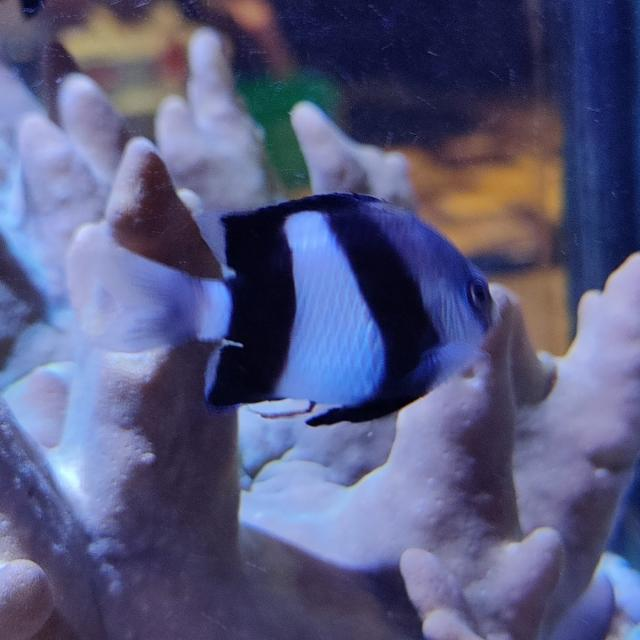ThreeStripedDamselfish: (99, 197, 502, 424)
